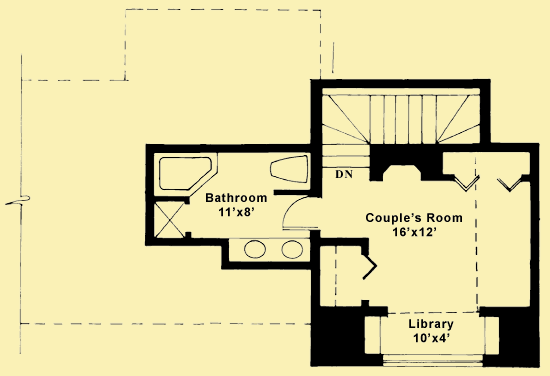door: (280, 195, 316, 233)
large_sink: (263, 154, 310, 185)
small_sink: (226, 237, 312, 262)
stairs: (321, 85, 482, 178)
tub: (152, 150, 219, 199)
window: (382, 351, 487, 368)
